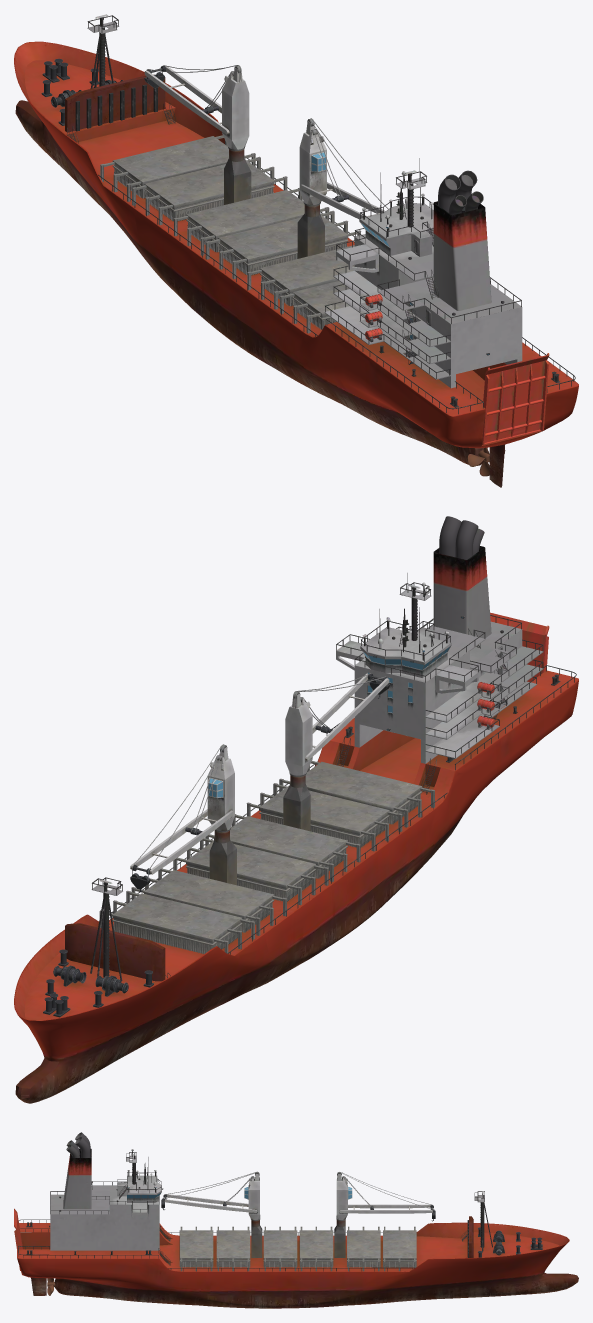
The model's file is cargo-ship.mobile.glb.
3 views of the same model, one above another, from view 1: azimuth 30°, elevation 25°; view 2: azimuth 150°, elevation 25°; view 3: azimuth 270°, elevation 25° (orthographic). The views are drawn at different scales.
Parts seen in each view (by area): view 1: Object_2, Object_9, Object_8; view 2: Object_2, Object_9, Object_8; view 3: Object_9, Object_2, Object_8.
Part boxes in pixels (x1=…): Object_2: x1=67, y1=14, x2=575, y2=445; Object_9: x1=14, y1=41, x2=578, y2=487; Object_8: x1=41, y1=58, x2=522, y2=388; Object_2: x1=90, y1=516, x2=576, y2=981; Object_9: x1=14, y1=670, x2=578, y2=1103; Object_8: x1=43, y1=629, x2=522, y2=1017; Object_9: x1=17, y1=1222, x2=578, y2=1308; Object_2: x1=14, y1=1132, x2=492, y2=1271; Object_8: x1=50, y1=1171, x2=542, y2=1257.
Bounding box in the file's own units: 0.1516 × 0.3128 × 1.
Materials: 3 (3 with a texture image).
